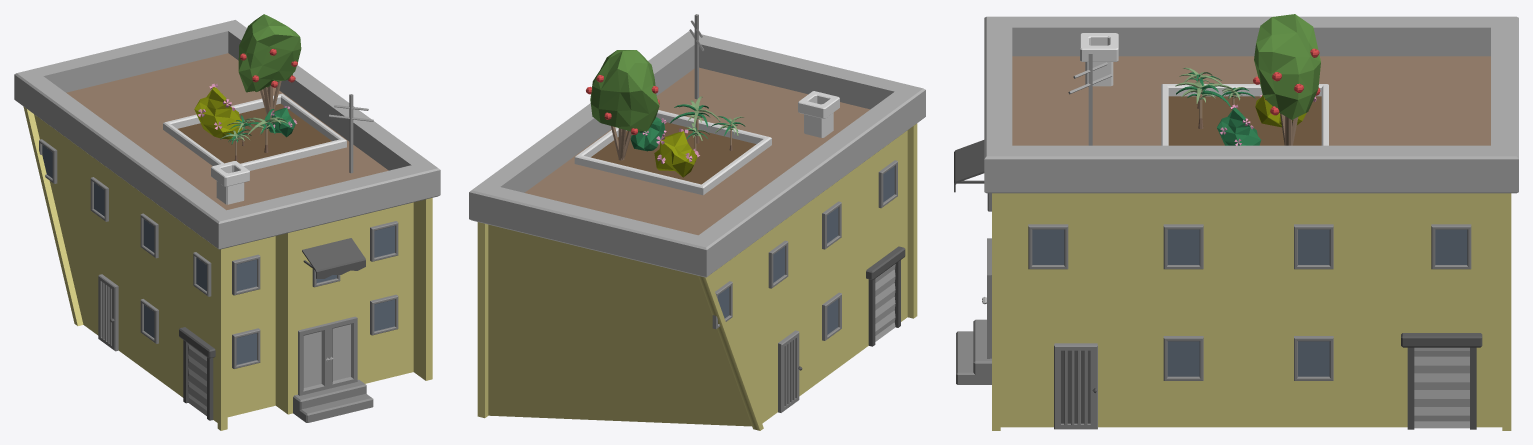
The model's file is casa_2_alturas_b.fbx.
3 views of the same model, side by side, from view 1: azimuth 30°, elevation 25°; view 2: azimuth 150°, elevation 25°; view 3: azimuth 270°, elevation 25° (orthographic). The views are drawn at different scales.
Parts seen in each view (by area): view 1: CASA_2_alturas2, arbol_7, puerta_19, pCube170, escaleras_2, toldo_20, arbusto_3, puerta_20, pCube171, ventana_152, ventana_154, ventana_153 (+10 smaller); view 2: CASA_2_alturas2, arbol_7, pCube170, puerta_20, pCube171, arbusto_3, ventana_161, ventana_163, ventana_162, arbusto_4, ventana_164, caja_planta_individual6 (+3 smaller); view 3: CASA_2_alturas2, pCube172, arbol_7, puerta_21, escaleras_2, ventana_168, ventana_169, ventana_170, ventana_165, ventana_167, ventana_166, pCube171 (+6 smaller).
Part boxes in pixels (<box>): CASA_2_alturas2: <box>14,20,440,430</box>; arbol_7: <box>238,14,301,118</box>; puerta_19: <box>298,316,357,395</box>; pCube170: <box>179,327,215,420</box>; escaleras_2: <box>293,379,373,422</box>; toldo_20: <box>302,238,365,278</box>; arbusto_3: <box>194,83,241,139</box>; puerta_20: <box>98,274,118,351</box>; pCube171: <box>211,161,249,204</box>; ventana_152: <box>232,254,260,295</box>; ventana_154: <box>370,294,398,335</box>; ventana_153: <box>232,328,260,368</box>; CASA_2_alturas2: <box>469,31,925,430</box>; arbol_7: <box>586,50,659,160</box>; pCube170: <box>866,246,905,346</box>; puerta_20: <box>778,330,802,412</box>; pCube171: <box>798,91,839,137</box>; arbusto_3: <box>654,128,699,177</box>; ventana_161: <box>768,240,788,288</box>; ventana_163: <box>878,160,897,208</box>; ventana_162: <box>822,201,841,249</box>; arbusto_4: <box>630,117,666,151</box>; ventana_164: <box>712,281,732,329</box>; caja_planta_individual6: <box>669,96,720,143</box>; CASA_2_alturas2: <box>984,16,1518,430</box>; pCube172: <box>1401,333,1482,429</box>; arbol_7: <box>1253,14,1320,145</box>; puerta_21: <box>1054,343,1097,429</box>; escaleras_2: <box>956,319,991,384</box>; ventana_168: <box>1431,224,1471,269</box>; ventana_169: <box>1163,224,1203,269</box>; ventana_170: <box>1028,224,1068,269</box>; ventana_165: <box>1163,336,1203,380</box>; ventana_167: <box>1294,224,1333,269</box>; ventana_166: <box>1294,336,1333,380</box>; pCube171: <box>1080,33,1118,86</box>.
Size of the model in its own units: 839 by 1060 by 1415.
